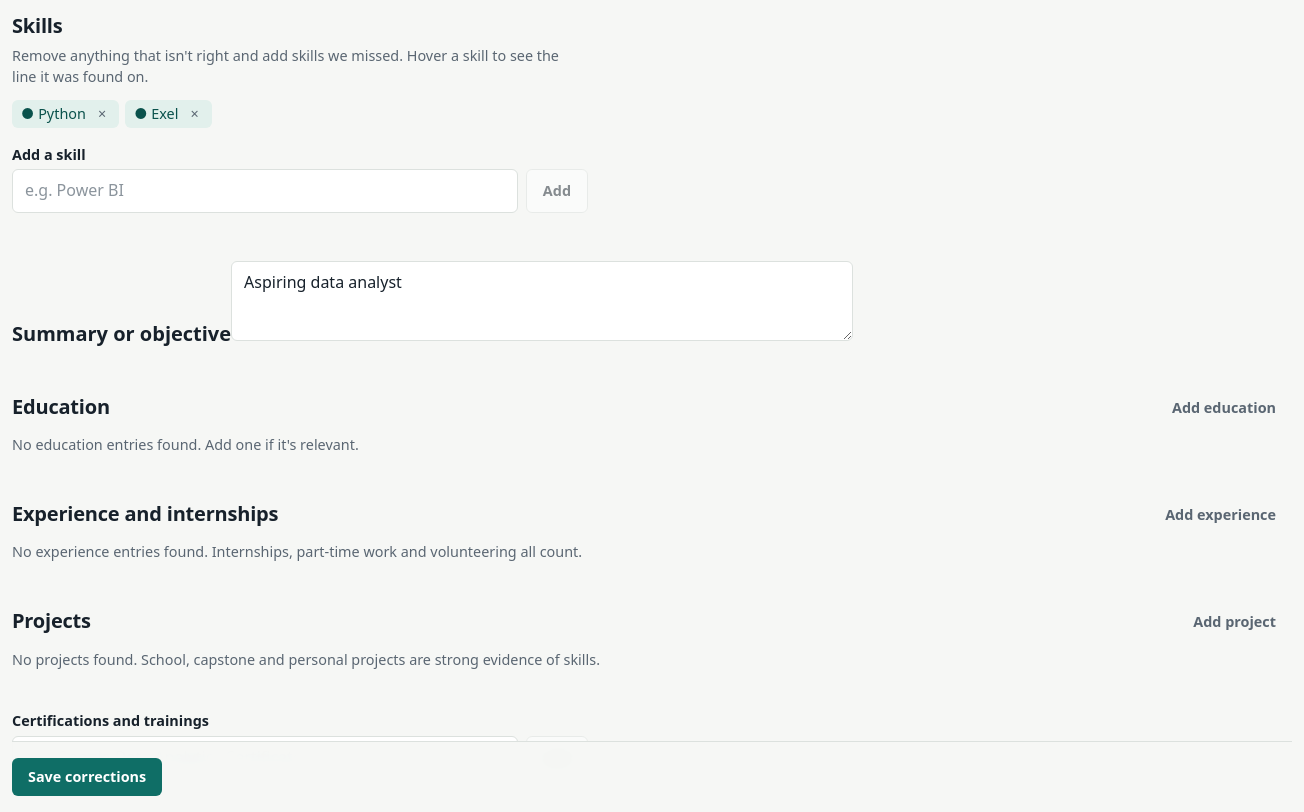
Test: ResumeEditor (profile correction) › lets the user remove a wrongly extracted skill and add a missing one
Click the button named "Remove Exel": [194, 114] box top-left (186, 103), bottom-right (203, 125)
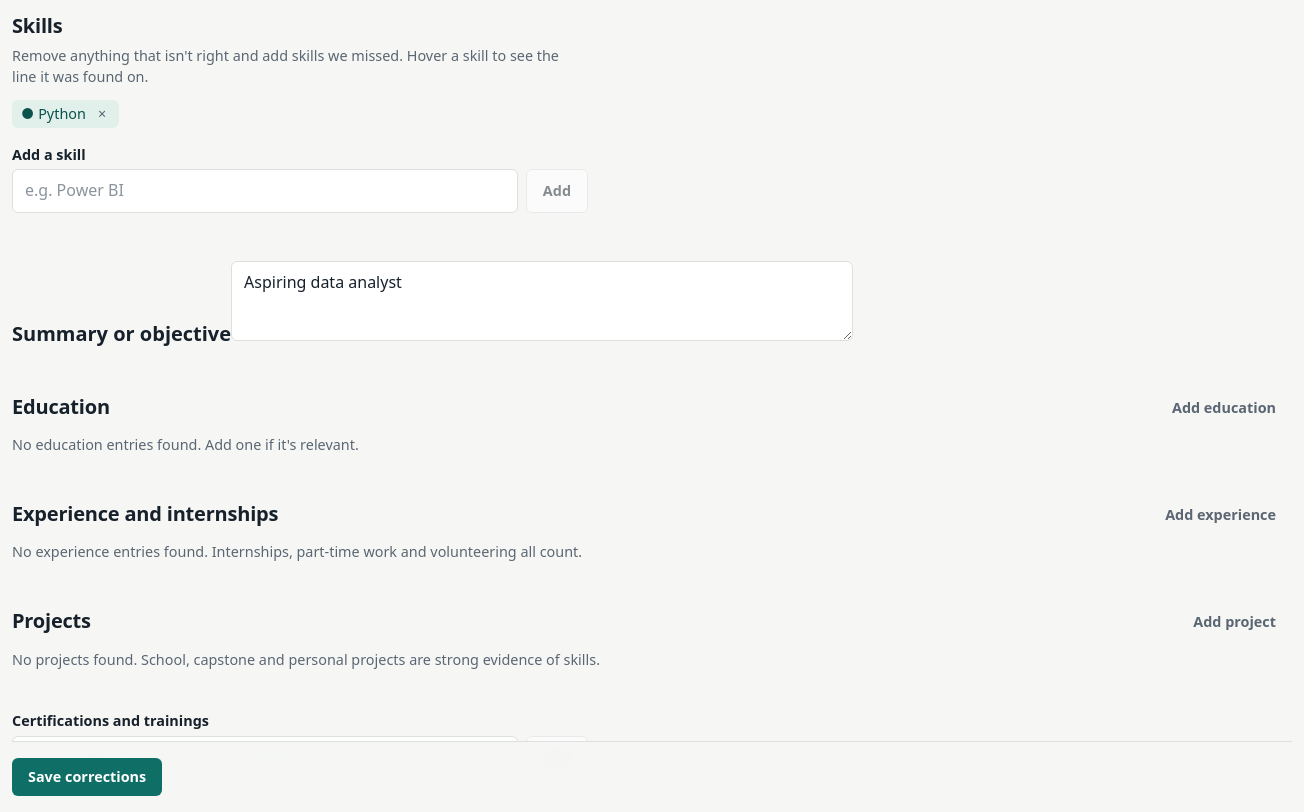
In the field labelled "Add a skill": [265, 191] box top-left (12, 169), bottom-right (518, 213), type "Microsoft Excel"
Then press Enter
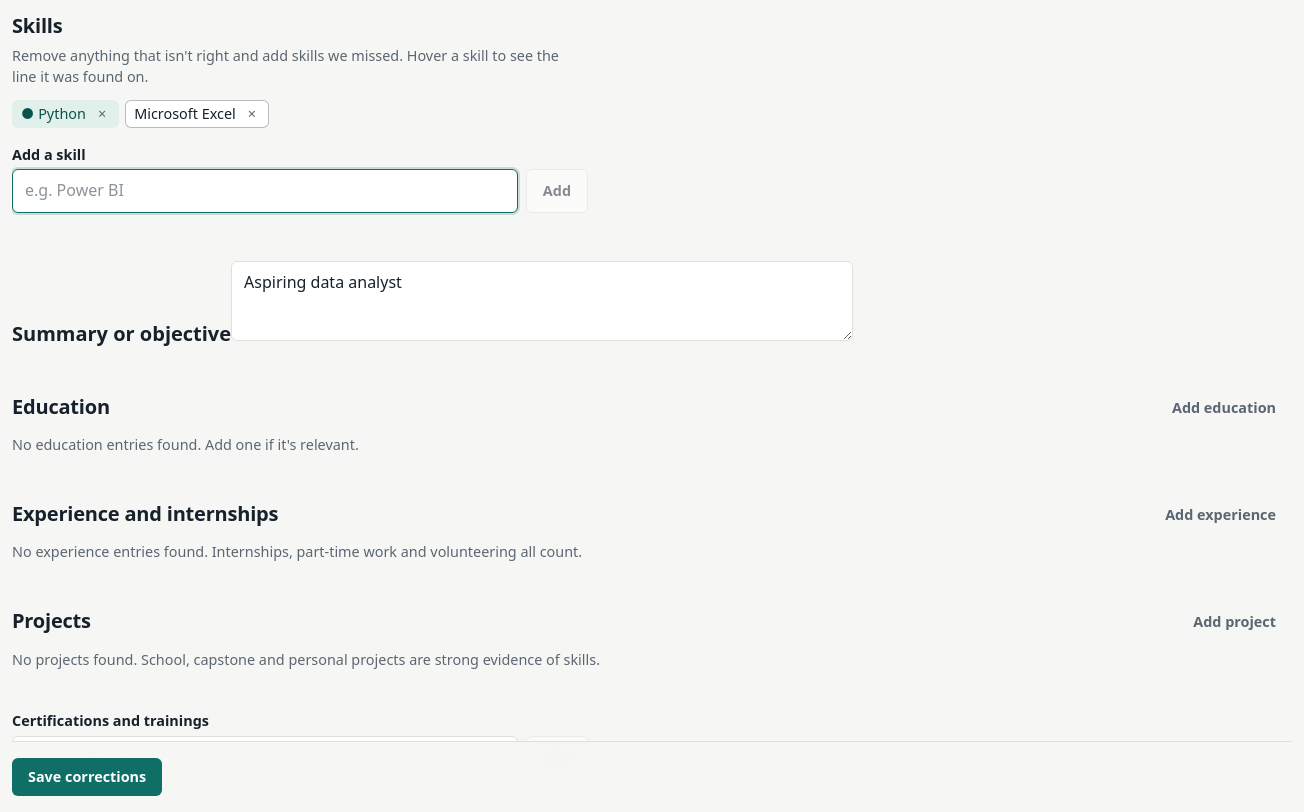
Click the button "Add education": [1224, 407] box top-left (1156, 389), bottom-right (1292, 426)
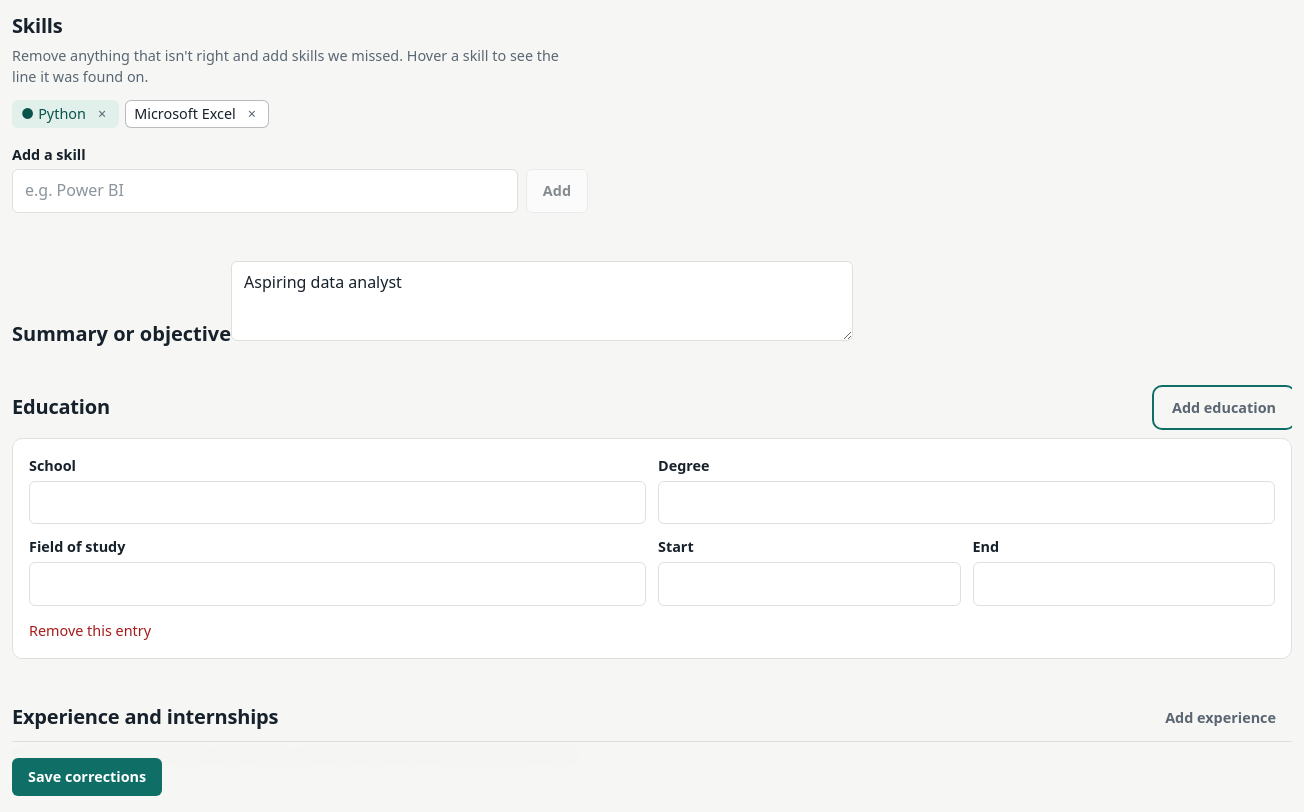
In the field labelled "School": [338, 503] box top-left (29, 481), bottom-right (646, 524), type "Test University"
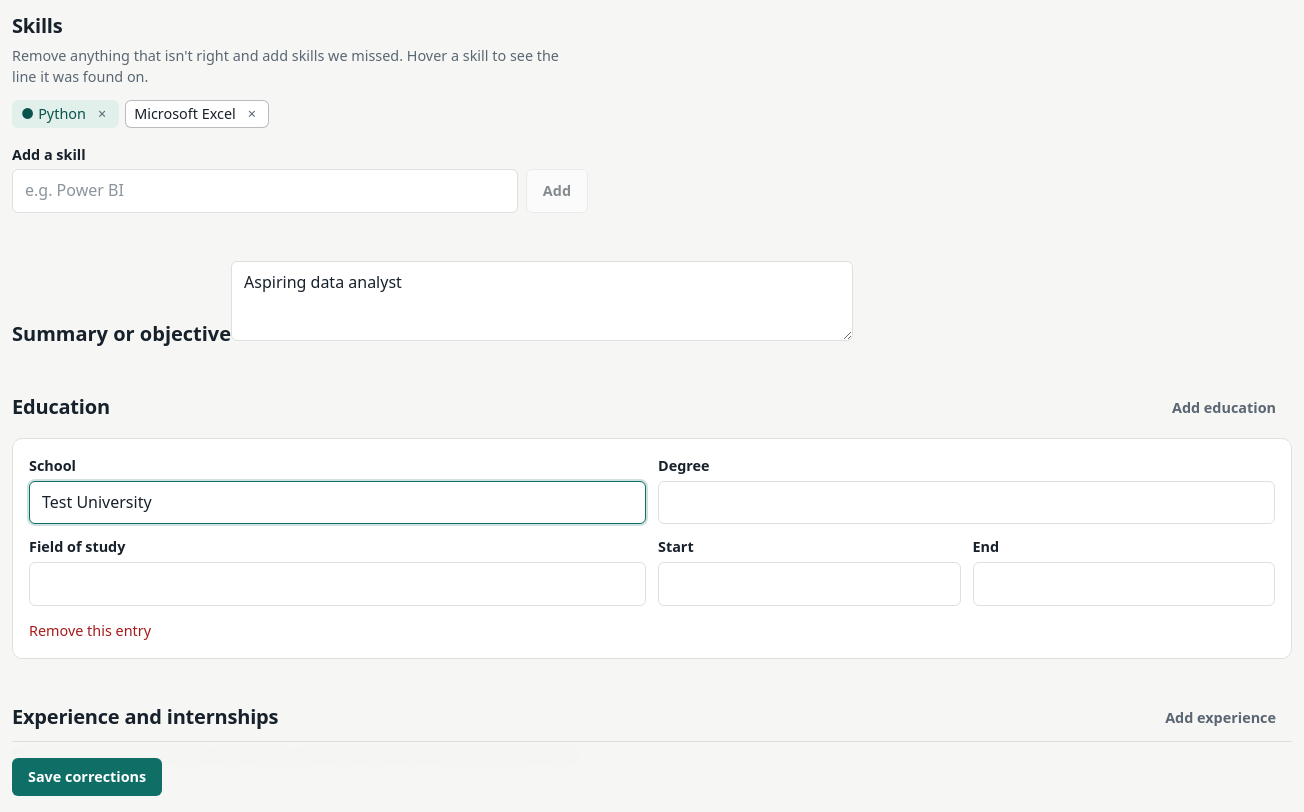
Click the button "Save corrections": [87, 777] box top-left (12, 758), bottom-right (162, 796)
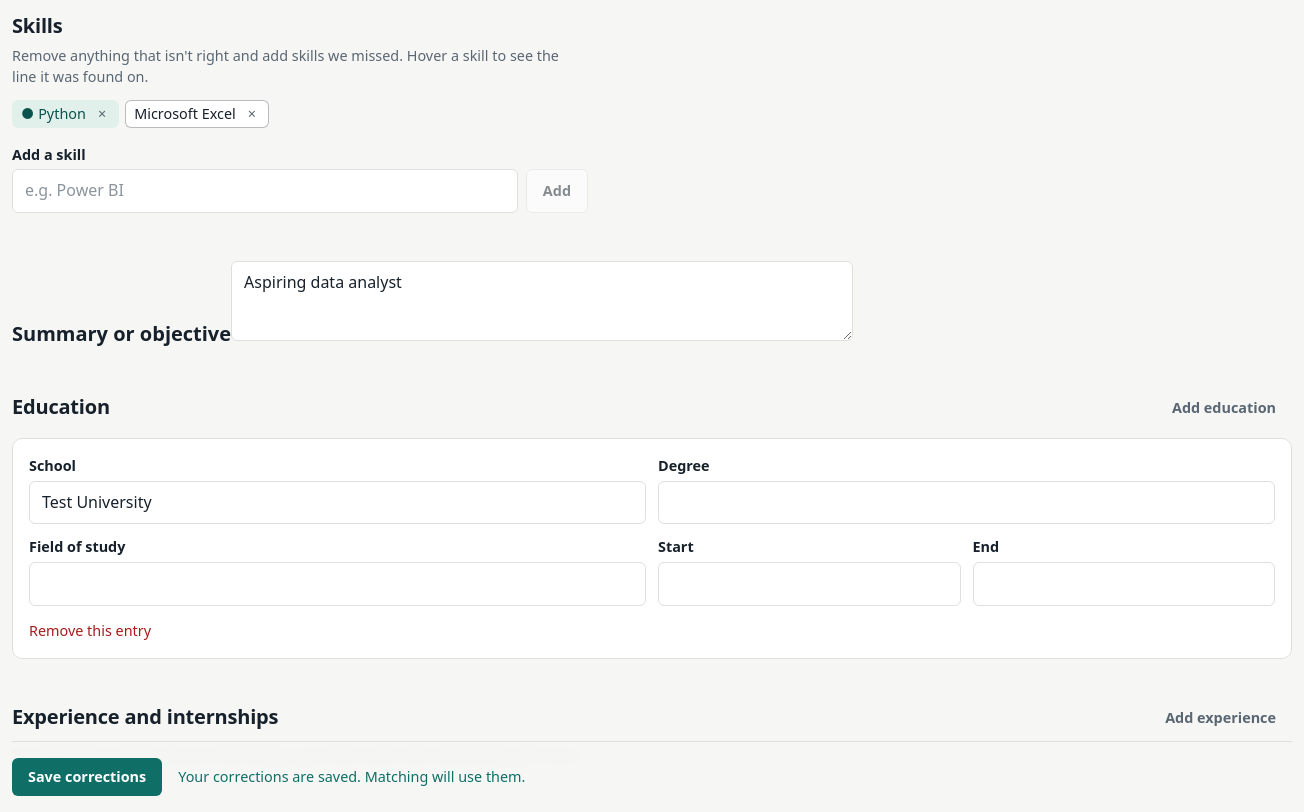
Result: the text "Your corrections are saved. Matching will use them." is shown at top-left (178, 766), bottom-right (525, 788)
